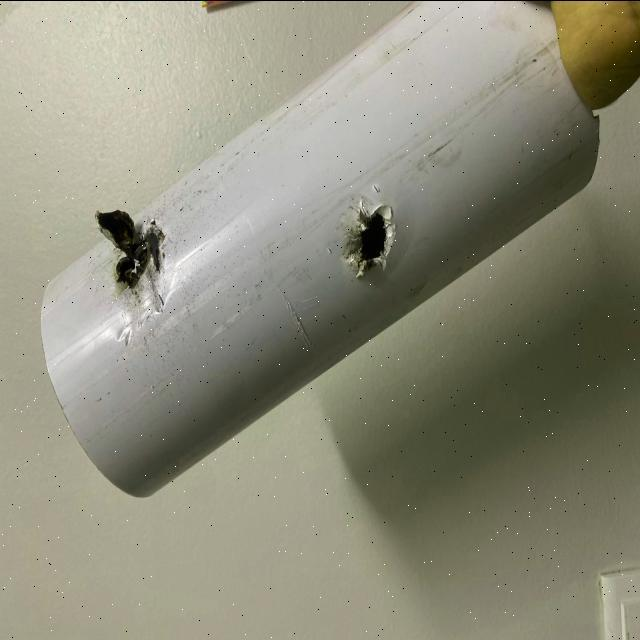Hole: (110, 196, 170, 312), (334, 193, 406, 285)
